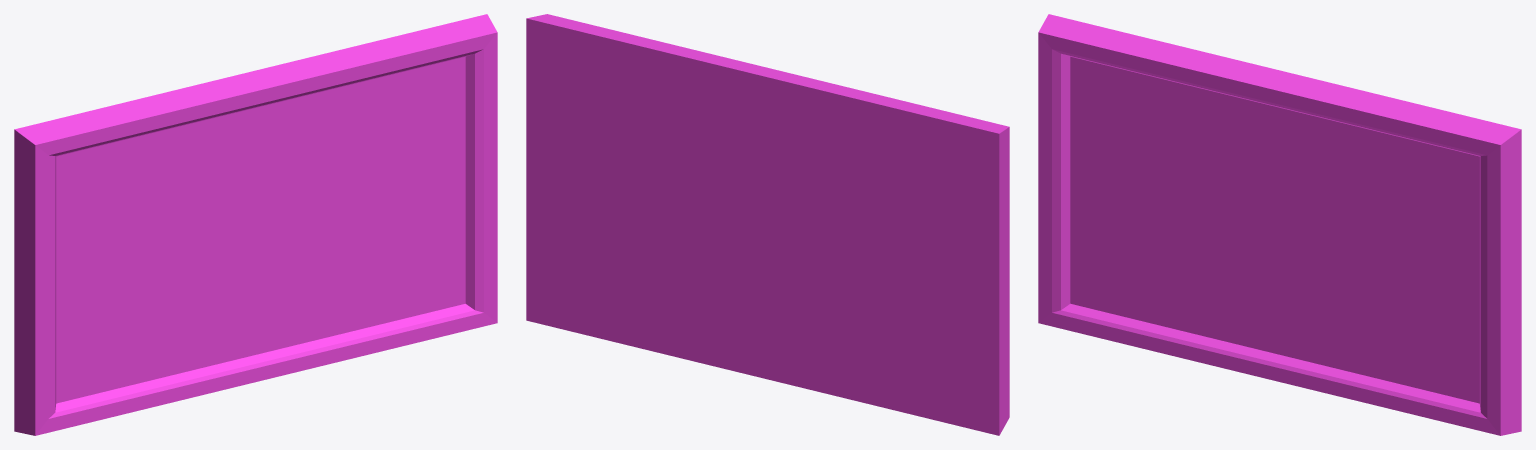
Rendered from SM_Picture_SnailFight_Painting_Fantasy.fbx.
3 views of the same model, side by side, from view 1: azimuth 30°, elevation 25°; view 2: azimuth 150°, elevation 25°; view 3: azimuth 330°, elevation 25° (orthographic).
Parts seen in each view (by area): view 1: SM_Picture_SnailFight_Painting_Fantasy; view 2: SM_Picture_SnailFight_Painting_Fantasy; view 3: SM_Picture_SnailFight_Painting_Fantasy.
Boxes of the visible parts, x1,y1,x2,y2 form: SM_Picture_SnailFight_Painting_Fantasy: [14, 14, 497, 435]; SM_Picture_SnailFight_Painting_Fantasy: [526, 14, 1009, 435]; SM_Picture_SnailFight_Painting_Fantasy: [1038, 14, 1521, 435].
Size of the model in its own units: 2.1 by 1.28 by 0.12.
